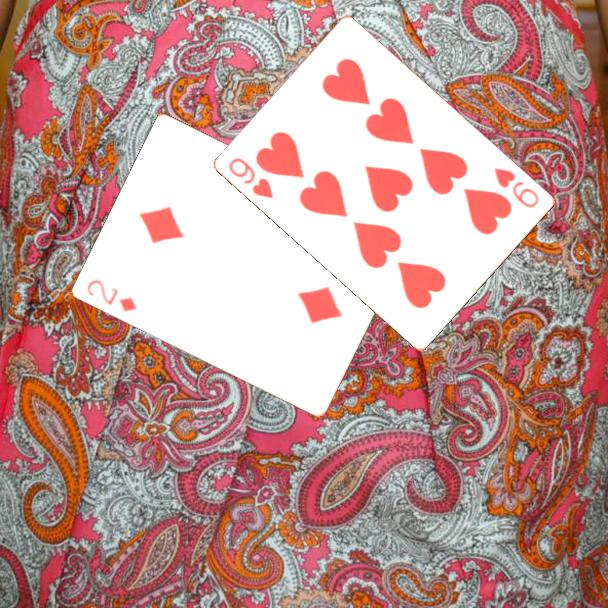d02: (84, 276, 140, 315)
h09: (225, 154, 277, 201), (491, 164, 542, 211)
